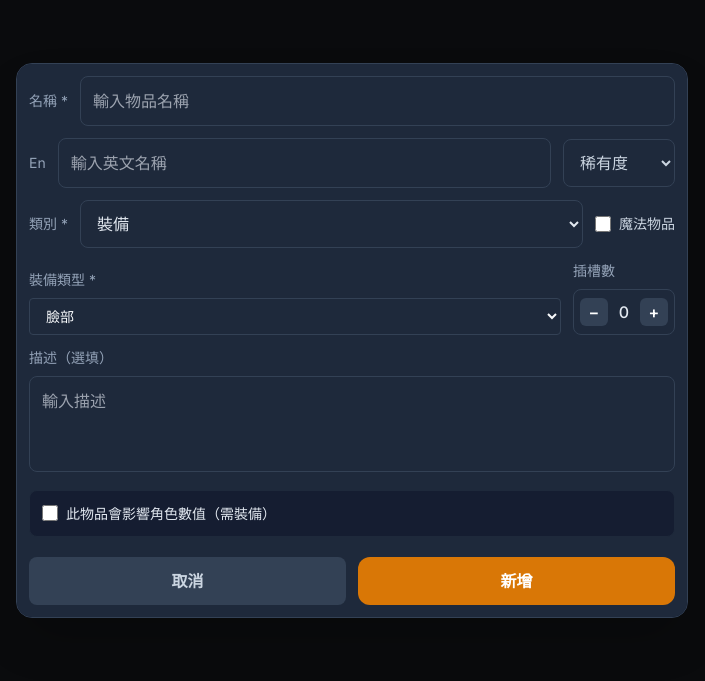
AddPersonalItemModal - MH素材鑲嵌效果各自獨立設定 › 勾選可鑲入武器插槽才顯示「武器插槽效果」欄位，未勾選護甲插槽則不顯示「護甲插槽效果」
This screenshot has width=705, height=681.
Step 1. Select "MH素材" in the dropdown showing "裝備" next to "類別 *" → point(332, 224), box [80,200,583,248]
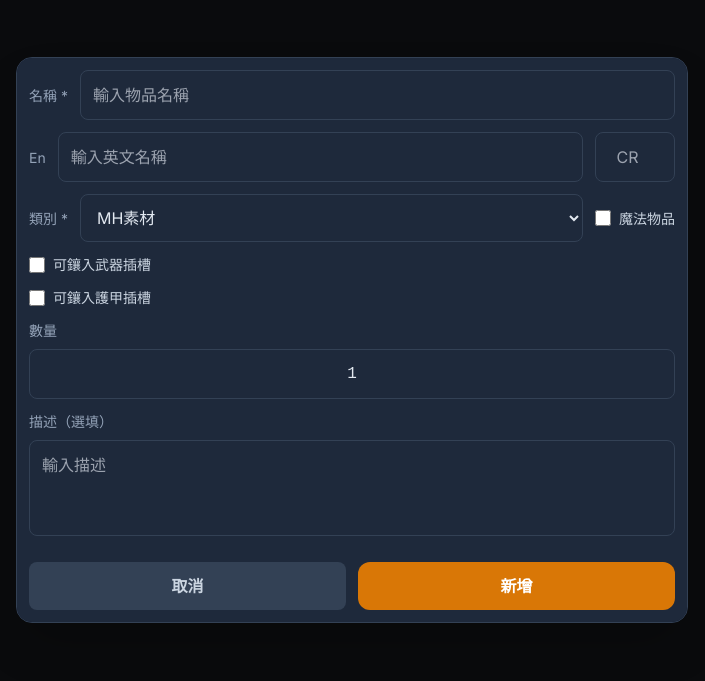
Expected: the text "武器插槽效果" is not shown
Step 2. Click the text "可鑲入武器插槽" → point(90, 264), box [29,256,151,273]
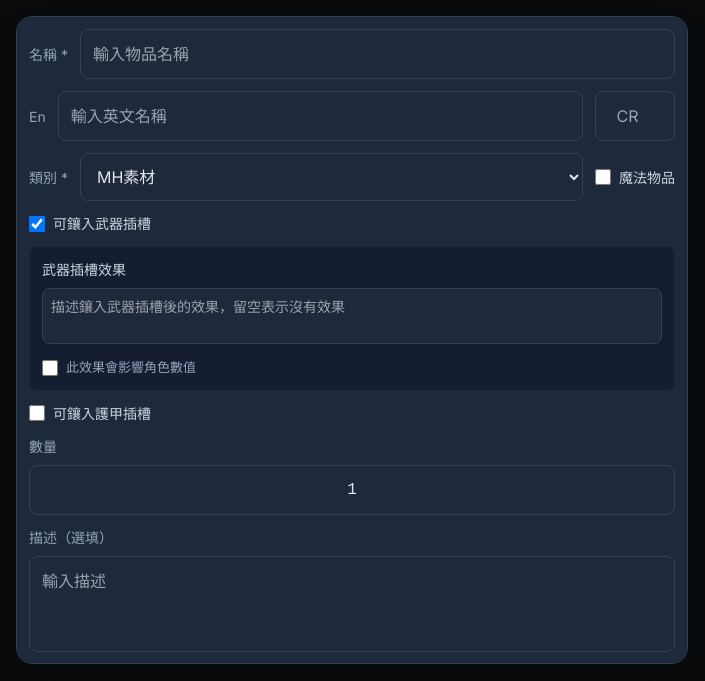
Expected: the text "武器插槽效果" is shown, [42,261,126,278]
